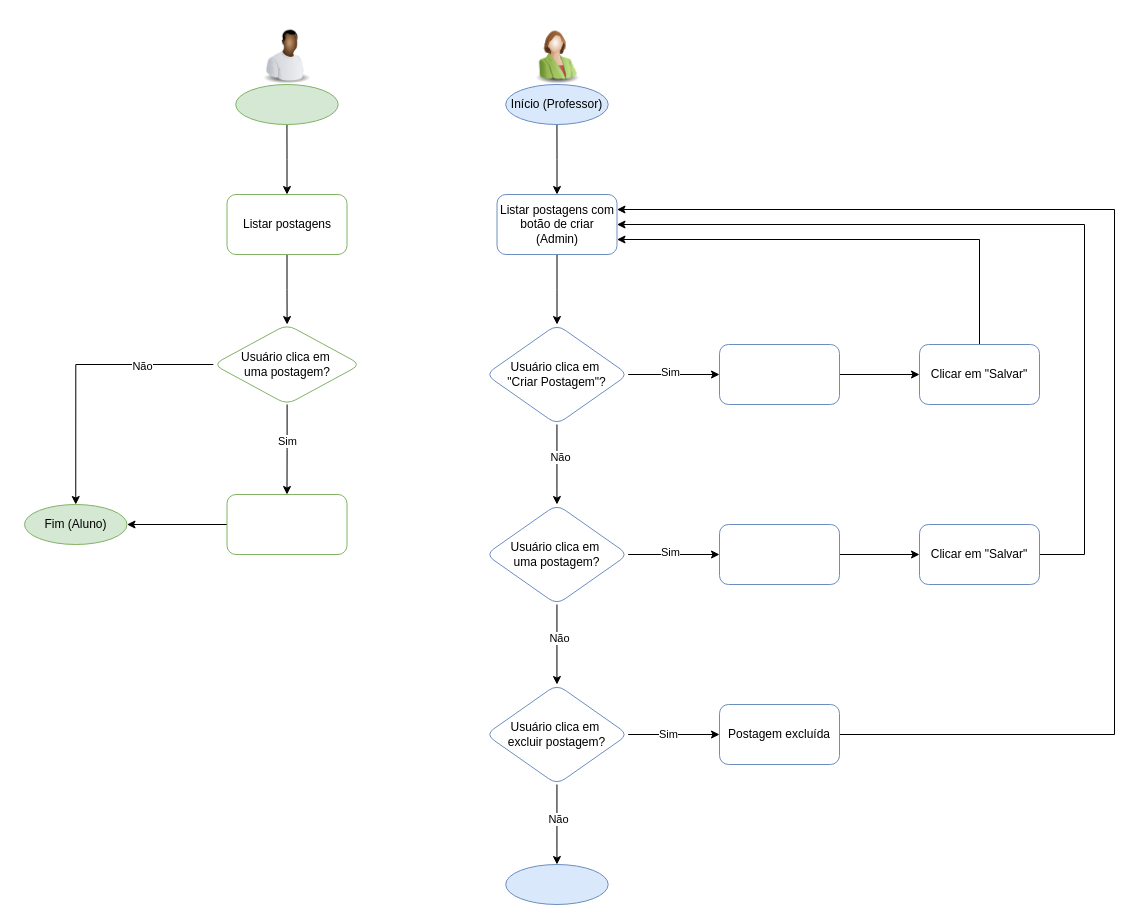
The diagram is 1140 pixels wide and 922 high, and some of its shapes have lost their labels. The centre of each missing label's shape, as x and y in pixels:
Editar conteúdo: the point at 779,554
Fim (Professor): the point at 556,884
Início (Aluno): the point at 286,104
Preencher título e conteúdo da postagem: the point at 779,374
Visualizar conteúdo específico da postagem: the point at 286,524
